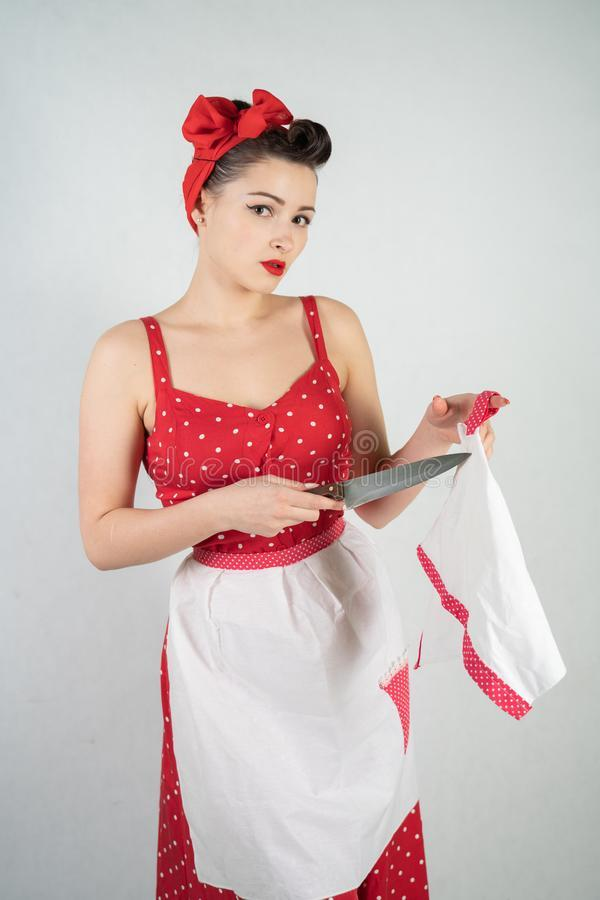criminal: (75, 82, 572, 900)
weapon: (298, 446, 474, 513)
